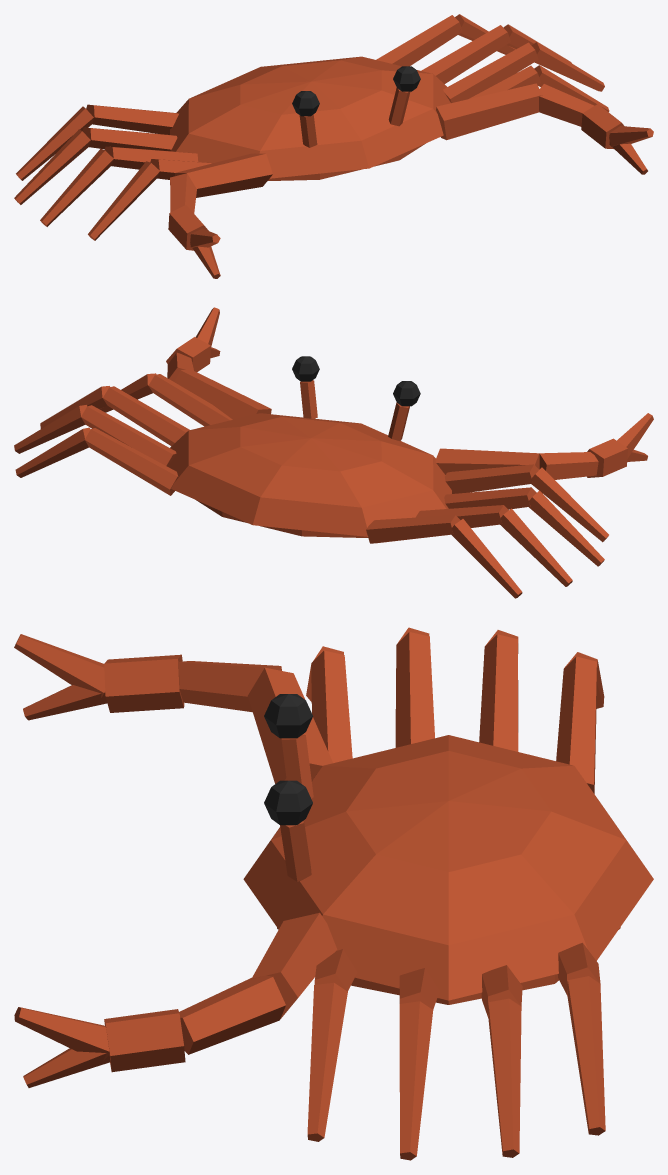
File: Crab.fbx
The picture shows the model from 3 angles, top to bottom: view 1: azimuth 30°, elevation 25°; view 2: azimuth 150°, elevation 25°; view 3: azimuth 270°, elevation 25°; orthographic projection. The views are drawn at different scales.
Visible parts, largest first — view 1: Carapace, Claw_Stbd_Arm, Claw_Port_Arm, Leg_Stbd_1_Upper, Leg_Stbd_2_Upper, Leg_Port_3_Upper, Leg_Stbd_3_Upper, Leg_Port_2_Upper, Leg_Port_0_Lower, Leg_Port_1_Lower, Leg_Port_2_Lower, Leg_Port_3_Lower (+20 smaller); view 2: Carapace, Leg_Stbd_3_Upper, Claw_Stbd_Arm, Leg_Stbd_1_Upper, Leg_Port_3_Upper, Leg_Port_0_Upper, Leg_Stbd_2_Upper, Claw_Port_Arm, Leg_Stbd_0_Upper, Leg_Port_1_Upper, Leg_Port_0_Lower, Leg_Port_1_Lower (+18 smaller); view 3: Carapace, Claw_Stbd_Fore, Claw_Stbd_Arm, Leg_Stbd_3_Lower, Leg_Port_3_Upper, Leg_Stbd_0_Lower, Leg_Stbd_2_Lower, Claw_Stbd_PincerBase, Claw_Port_PincerBase, Leg_Stbd_1_Lower, Leg_Port_2_Upper, Leg_Port_1_Upper (+16 smaller).
Boxes of the visible parts, x1=… form: Carapace: x1=170, y1=56, x2=450, y2=178; Claw_Stbd_Arm: x1=436, y1=83, x2=542, y2=140; Claw_Port_Arm: x1=175, y1=153, x2=272, y2=197; Leg_Stbd_1_Upper: x1=443, y1=42, x2=538, y2=102; Leg_Stbd_2_Upper: x1=421, y1=25, x2=510, y2=84; Leg_Port_3_Upper: x1=86, y1=104, x2=178, y2=134; Leg_Stbd_3_Upper: x1=376, y1=15, x2=462, y2=66; Leg_Port_2_Upper: x1=82, y1=127, x2=177, y2=151; Leg_Port_0_Lower: x1=88, y1=161, x2=159, y2=240; Leg_Port_1_Lower: x1=40, y1=148, x2=113, y2=226; Leg_Port_2_Lower: x1=14, y1=129, x2=90, y2=204; Leg_Port_3_Lower: x1=16, y1=106, x2=93, y2=180; Carapace: x1=169, y1=413, x2=451, y2=536; Leg_Stbd_3_Upper: x1=84, y1=428, x2=178, y2=495; Claw_Stbd_Arm: x1=174, y1=369, x2=271, y2=419; Leg_Stbd_1_Upper: x1=103, y1=386, x2=189, y2=446; Leg_Port_3_Upper: x1=366, y1=515, x2=460, y2=543; Leg_Port_0_Upper: x1=445, y1=464, x2=538, y2=493; Leg_Stbd_2_Upper: x1=81, y1=405, x2=176, y2=467; Claw_Port_Arm: x1=435, y1=448, x2=539, y2=474; Leg_Stbd_0_Upper: x1=148, y1=374, x2=232, y2=426; Leg_Port_1_Upper: x1=444, y1=487, x2=536, y2=509; Leg_Port_0_Lower: x1=529, y1=467, x2=608, y2=542; Leg_Port_1_Lower: x1=526, y1=490, x2=604, y2=566; Carapace: x1=243, y1=735, x2=653, y2=1000; Claw_Stbd_Fore: x1=179, y1=975, x2=285, y2=1054; Claw_Stbd_Arm: x1=251, y1=912, x2=337, y2=1018; Leg_Stbd_3_Lower: x1=566, y1=976, x2=605, y2=1135; Leg_Port_3_Upper: x1=556, y1=656, x2=597, y2=793; Leg_Stbd_0_Lower: x1=307, y1=982, x2=347, y2=1141; Leg_Stbd_2_Lower: x1=488, y1=998, x2=521, y2=1157; Claw_Stbd_PincerBase: x1=104, y1=1009, x2=185, y2=1072; Claw_Port_PincerBase: x1=104, y1=654, x2=184, y2=712; Leg_Stbd_1_Lower: x1=399, y1=1001, x2=433, y2=1160; Leg_Port_2_Upper: x1=479, y1=634, x2=518, y2=751; Leg_Port_1_Upper: x1=395, y1=632, x2=434, y2=747.
Size of the model in its own units: 558 by 99.75 by 312.
